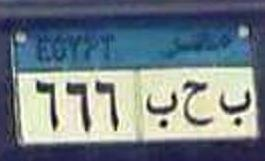6: (64, 79, 95, 132), (94, 78, 124, 130), (34, 77, 61, 134)
7aa: (181, 79, 215, 129)
baa: (216, 86, 254, 130), (143, 88, 180, 130)
